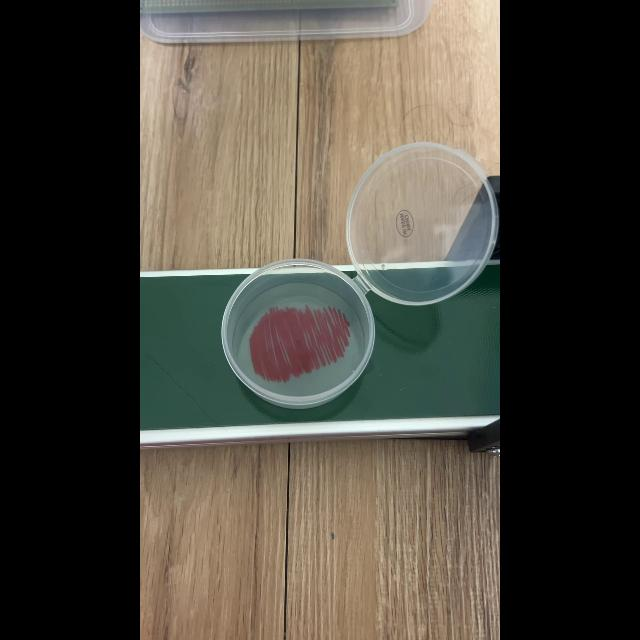dirty: (233, 278, 364, 397)
